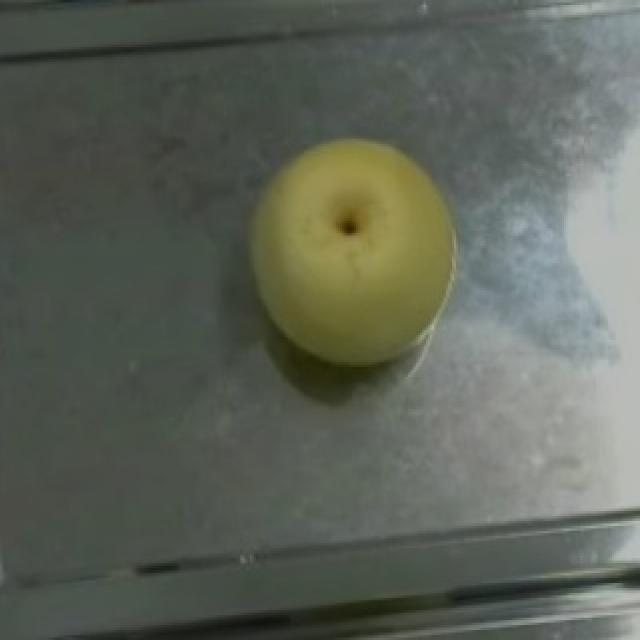Fruit: (228, 117, 474, 382)
